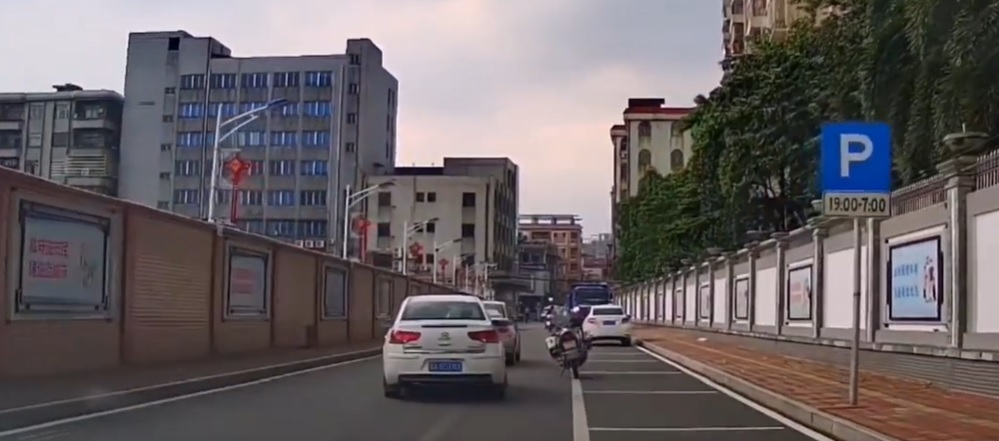slot_nocar: (572, 384, 797, 434), (563, 355, 718, 396)
